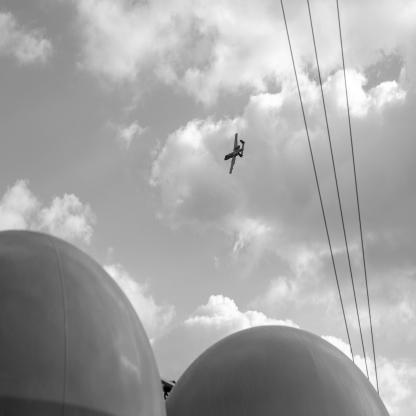A10: (225, 133, 246, 175)
